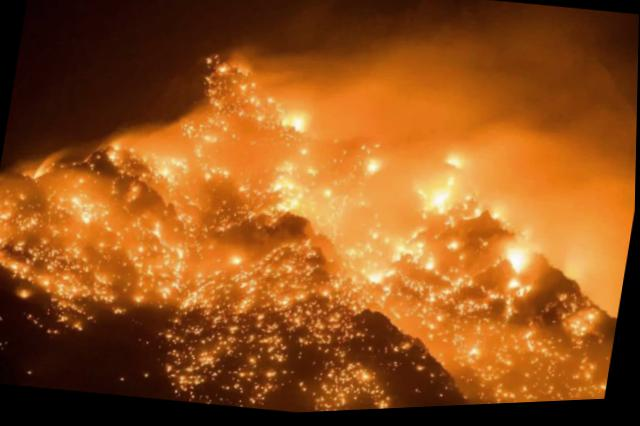fire: (0, 32, 638, 425)
